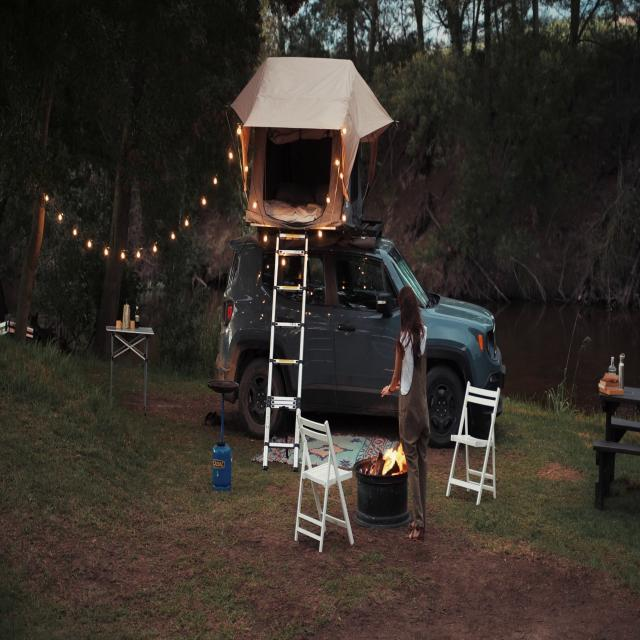Fire: (374, 436, 412, 474)
